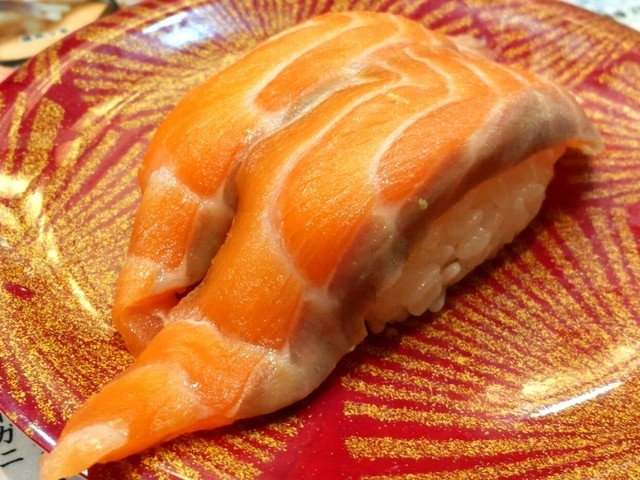salmon: (239, 60, 579, 348)
